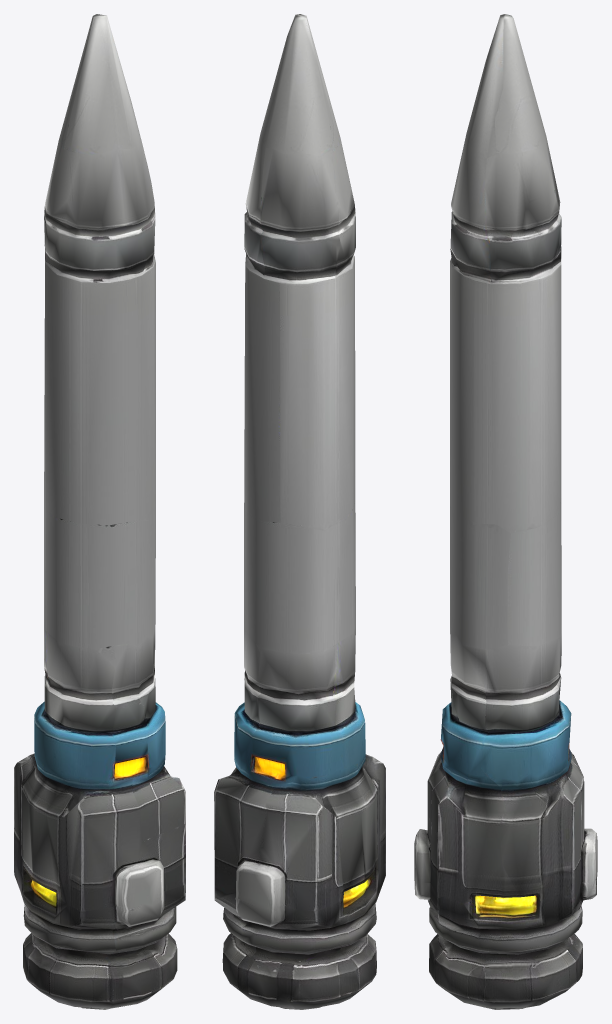
The model's file is railgun_ammo.glb.
3 renders of one model, left to right at view 1: azimuth 30°, elevation 25°; view 2: azimuth 150°, elevation 25°; view 3: azimuth 270°, elevation 25°, orthographic.
Parts seen in each view (by area): view 1: mesh_node; view 2: mesh_node; view 3: mesh_node.
Boxes of the visible parts, x1,y1,x2,y2 form: mesh_node: (14,14,185,1009); mesh_node: (214,14,385,1009); mesh_node: (414,14,597,1009).
Bounding box in the file's own units: 0.2711 × 1.9 × 0.3227.
Materials: 1 (1 with a texture image).
